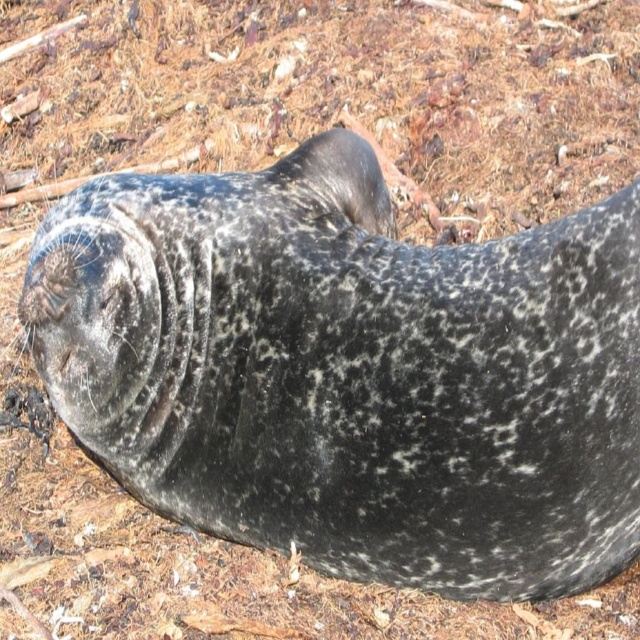Harbor seal: (42, 97, 588, 637)
